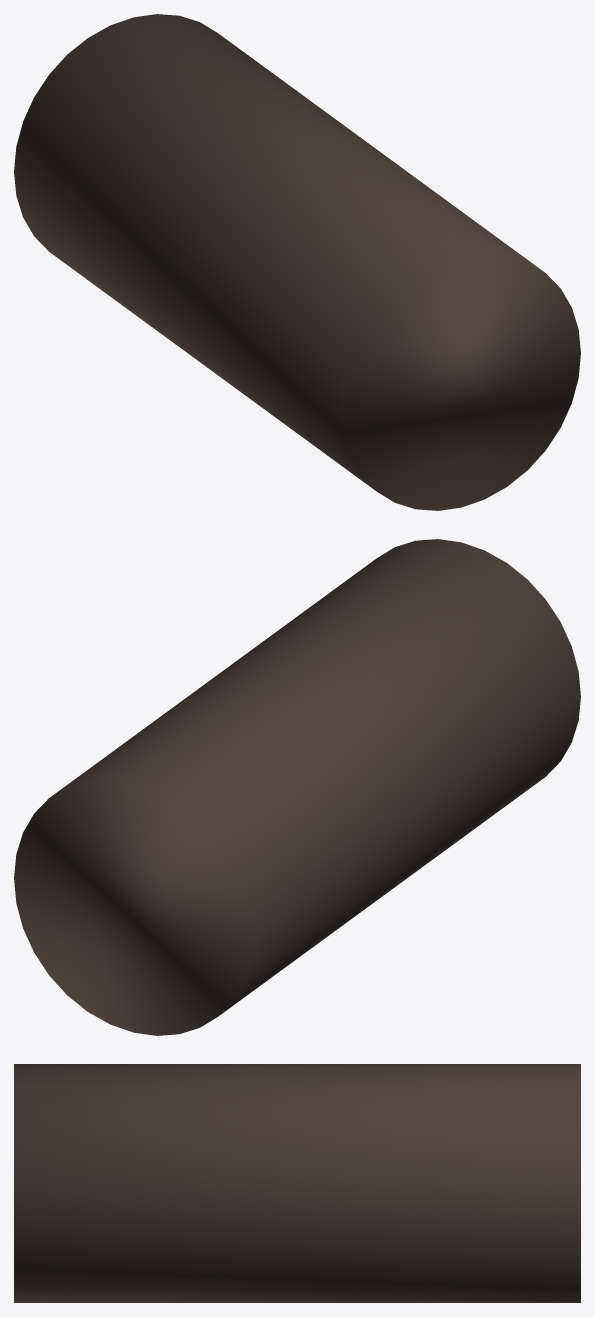
Rendered from Log2.fbx.
3 views of the same model, one above another, from view 1: azimuth 30°, elevation 25°; view 2: azimuth 150°, elevation 25°; view 3: azimuth 270°, elevation 25° (orthographic). The views are drawn at different scales.
Parts seen in each view (by area): view 1: Bake; view 2: Bake; view 3: Bake.
Part boxes in pixels (box(x1,y1,x2,y2)): Bake: box(14, 14, 580, 510); Bake: box(14, 539, 580, 1035); Bake: box(14, 1064, 580, 1302).
Bounding box in the file's own units: 128 × 128 × 305.
